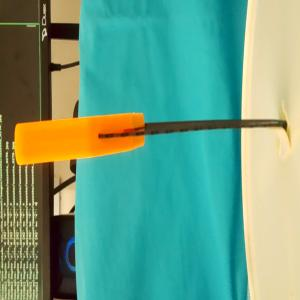serrote: (14, 112, 288, 166)
